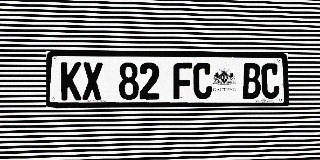2: (140, 62, 159, 100)
8: (119, 62, 139, 100)
B: (242, 63, 261, 99)
C: (193, 63, 212, 99), (261, 63, 279, 99)
F: (173, 63, 192, 99)
K: (61, 62, 82, 100)
X: (82, 62, 103, 100)
